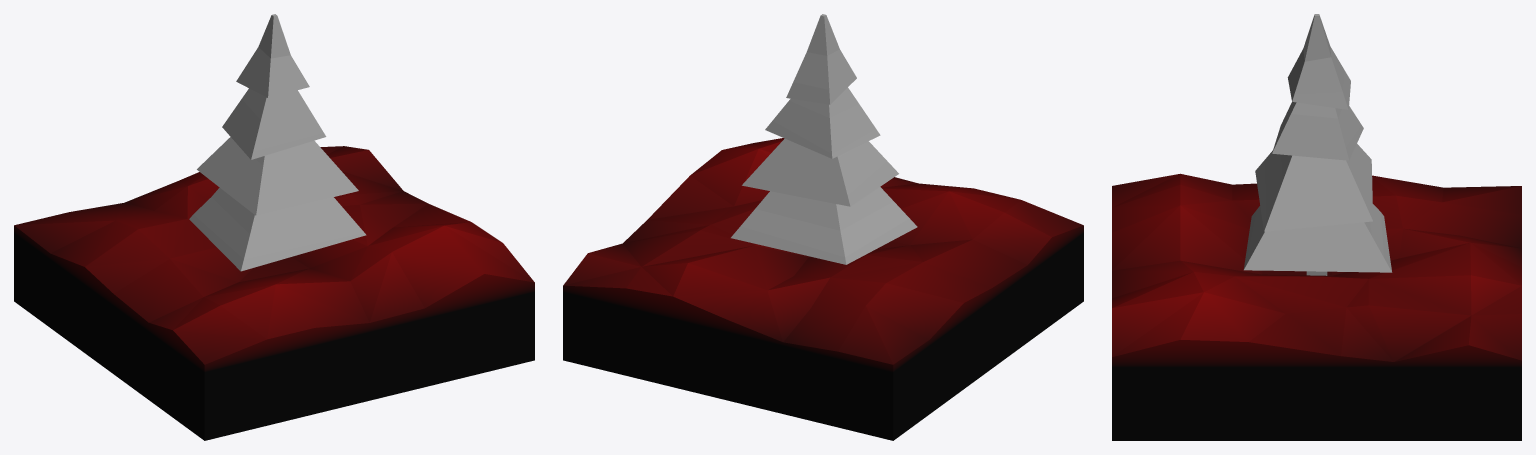
Rendered from treeScene.glb.
The picture shows the model from 3 angles, left to right: view 1: azimuth 30°, elevation 25°; view 2: azimuth 150°, elevation 25°; view 3: azimuth 270°, elevation 25°; orthographic projection. The views are drawn at different scales.
Visible parts, largest first — view 1: ground_high, tree_low; view 2: ground_high, tree_low; view 3: ground_high, tree_low.
Boxes of the visible parts, x1,y1,x2,y2 form: ground_high: (14, 146, 534, 440); tree_low: (189, 14, 366, 271); ground_high: (563, 138, 1083, 440); tree_low: (731, 14, 917, 264); ground_high: (1112, 173, 1521, 440); tree_low: (1243, 14, 1392, 275).
Size of the model in its own units: 5.99 by 5.48 by 5.99.
